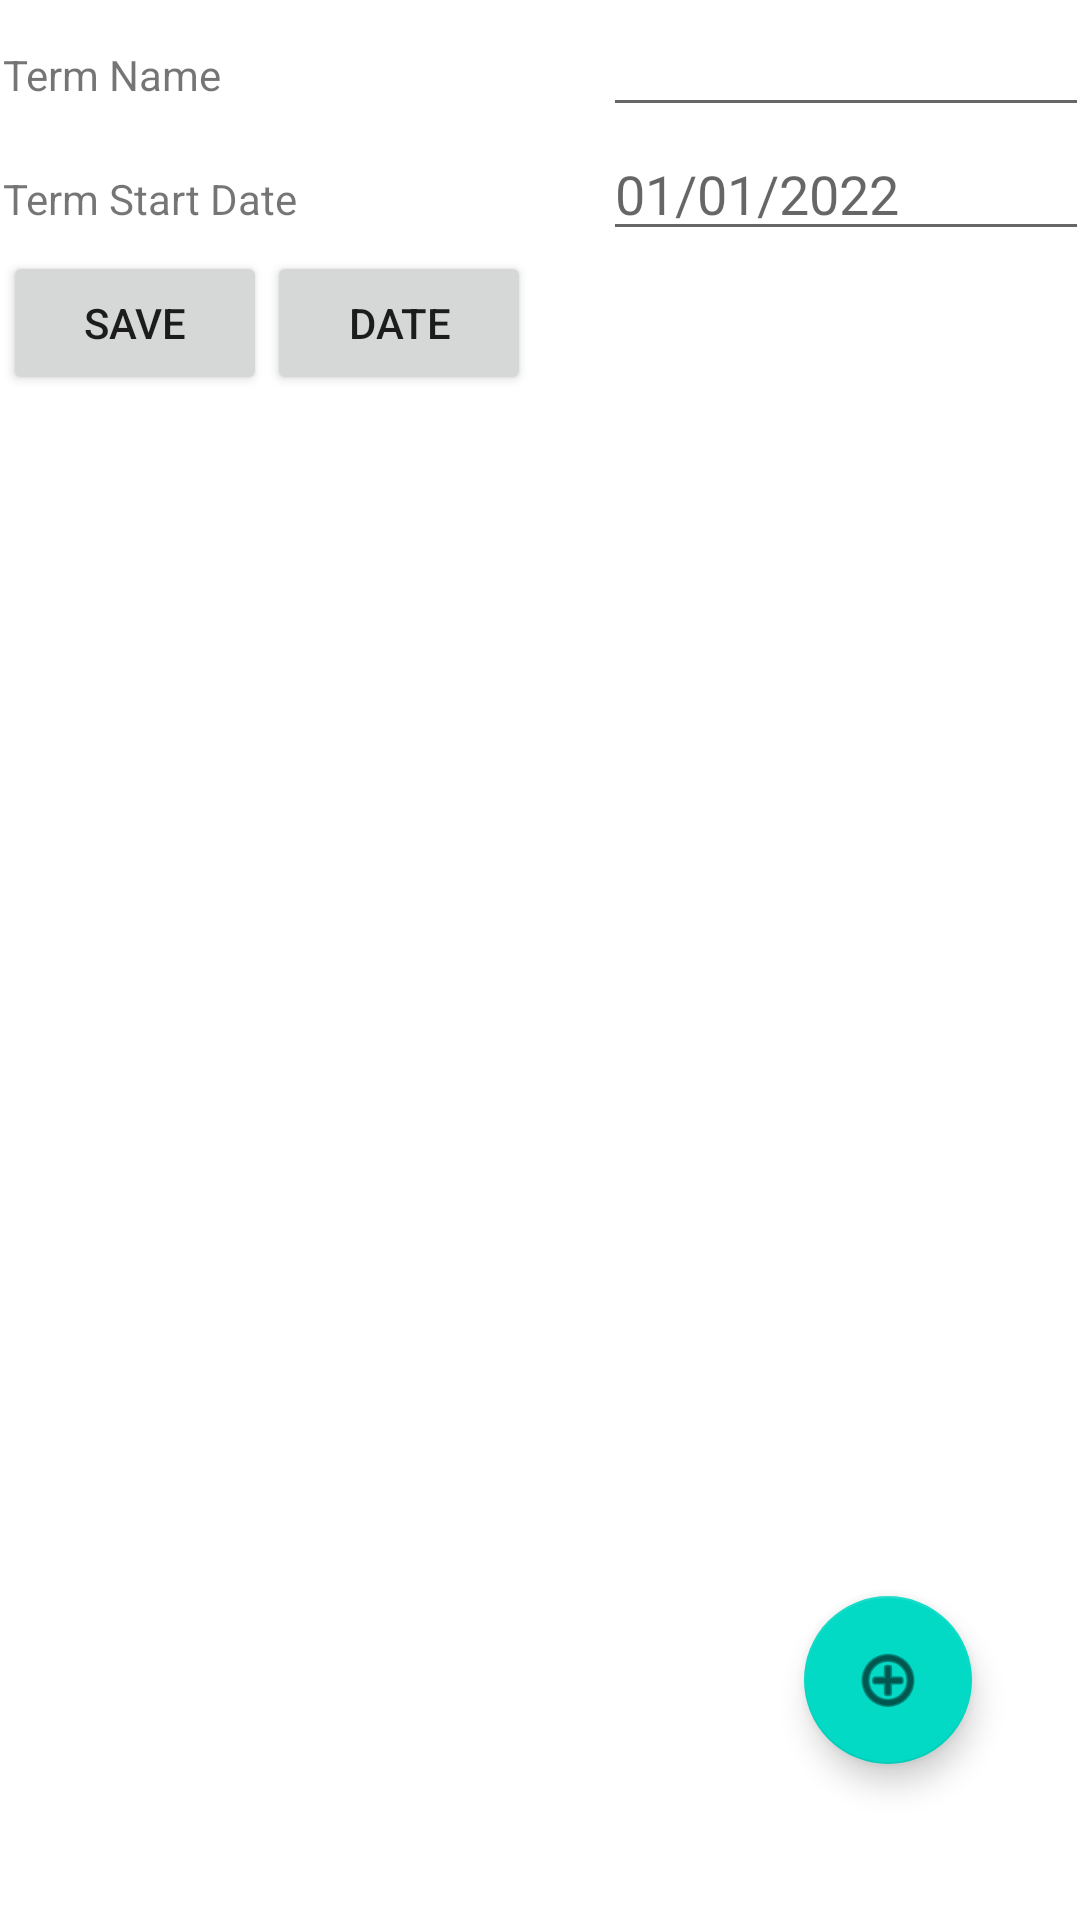

Where to tap for icons on this 1080px×1920px app screen, as (x=x, y=y):
add: (x=888, y=1680)
